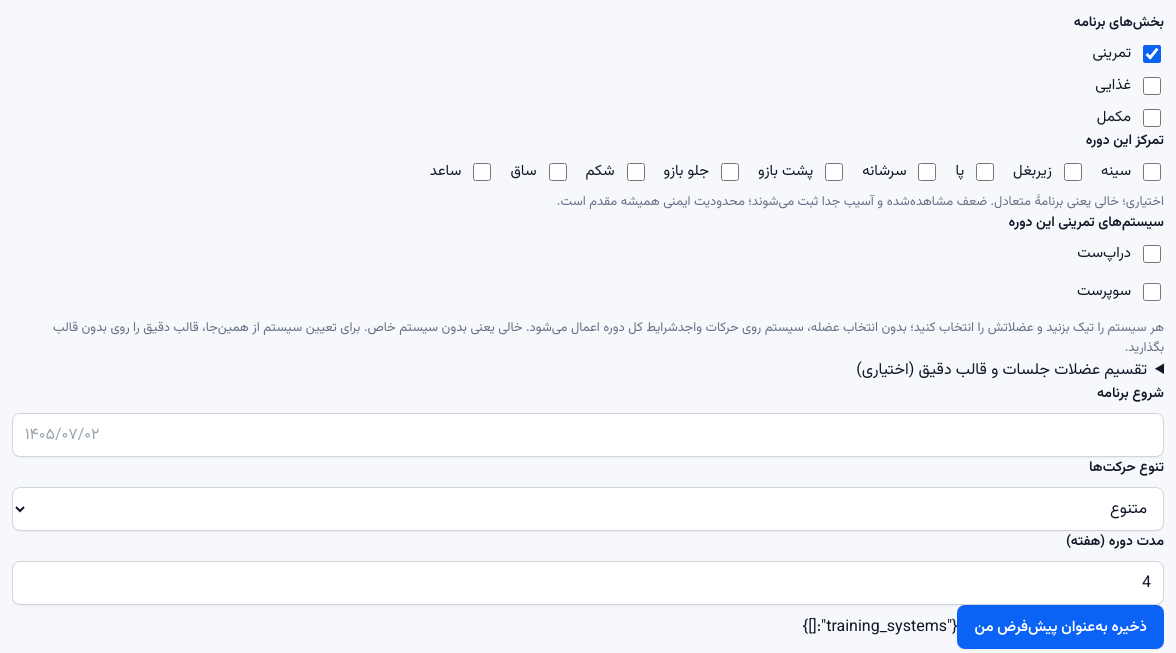
Test: keeps muscle selections independent per system and removes them with the system
Click the checkbox labelled "دراپ‌ست": {"x": 1152, "y": 254} [1143,245,1161,263]
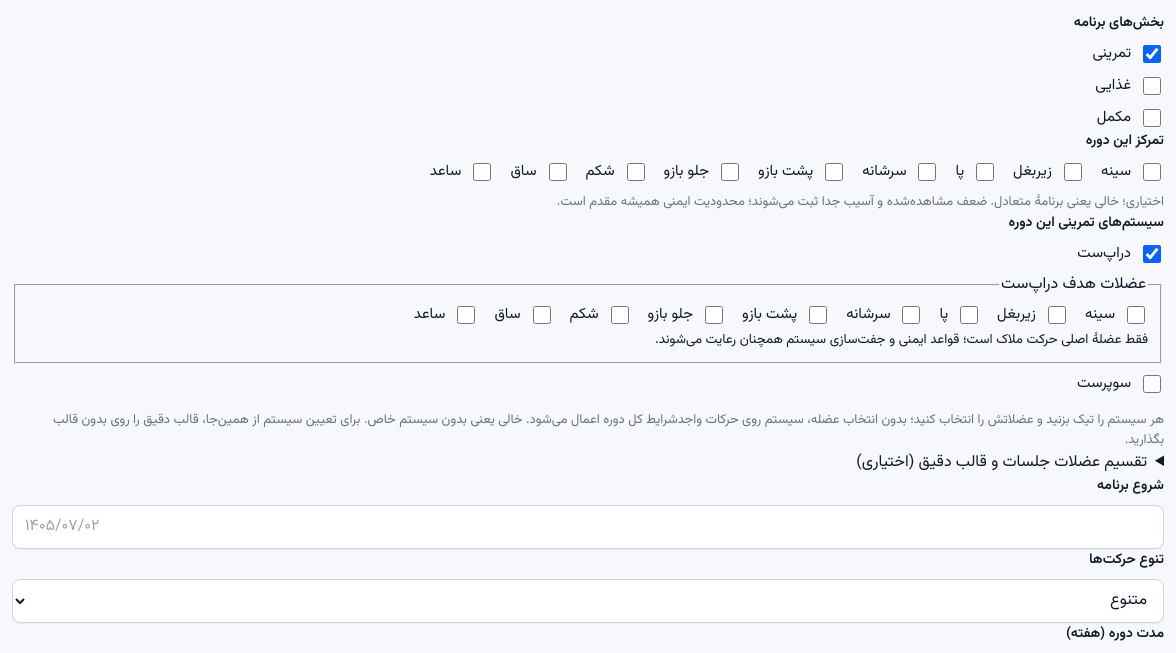
Click the checkbox labelled "سینه" below "عضلات هدف": {"x": 1136, "y": 315} [1127,306,1145,324]
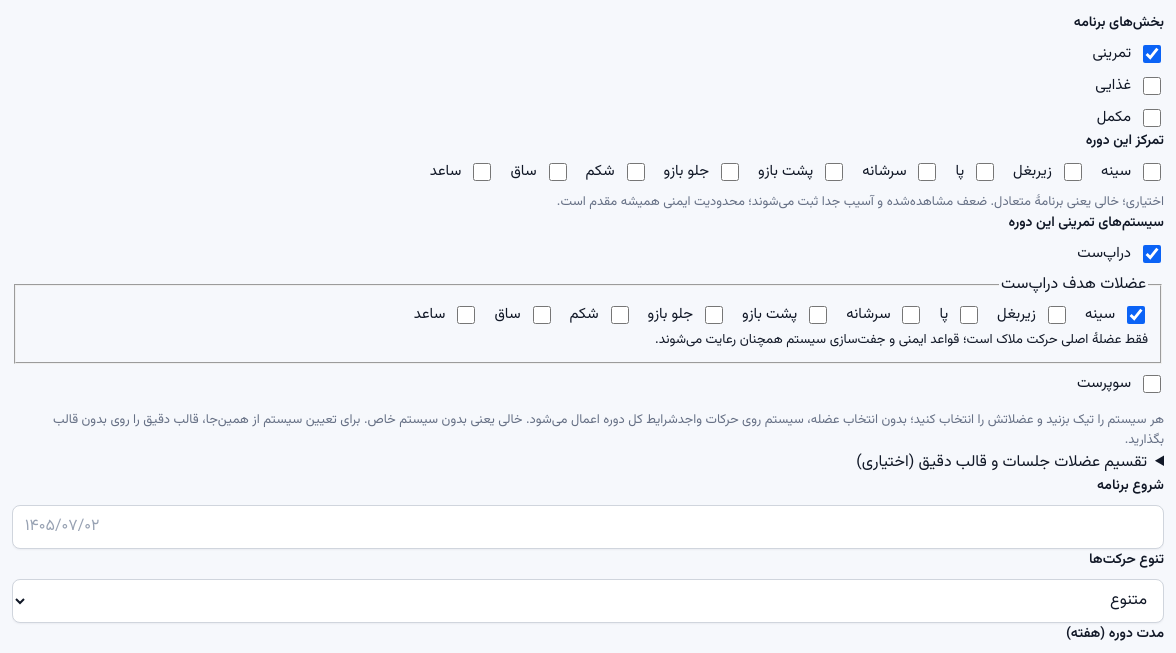
Click the checkbox labelled "سرشانه" below "عضلات هدف": {"x": 912, "y": 315} [902,306,920,324]
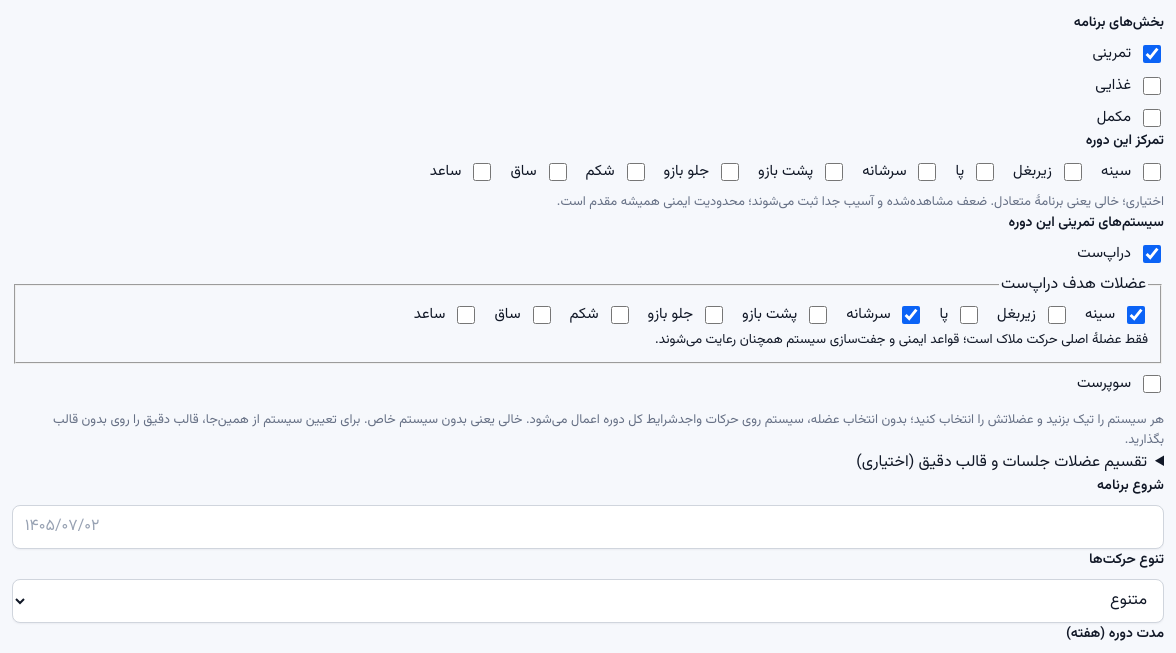
Click the checkbox labelled "سوپرست": {"x": 1152, "y": 384} [1143,375,1161,393]
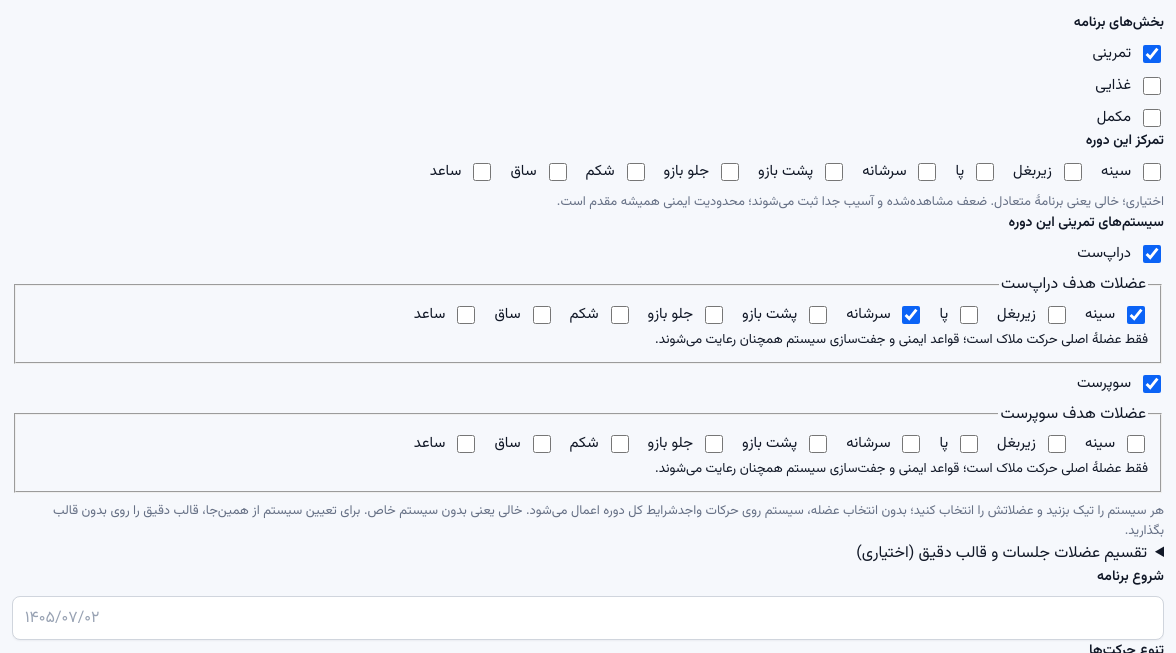
Click the 3rd checkbox labelled "پا": {"x": 969, "y": 444} [960,435,978,453]
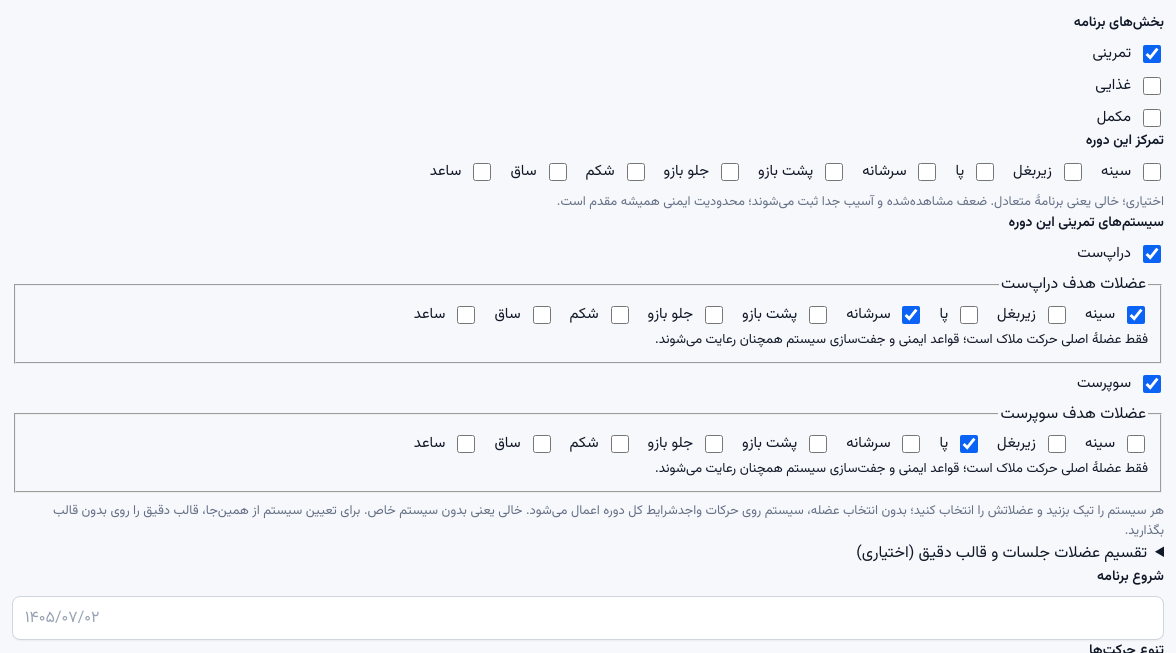
Click the checkbox labelled "دراپ‌ست": {"x": 1152, "y": 254} [1143,245,1161,263]
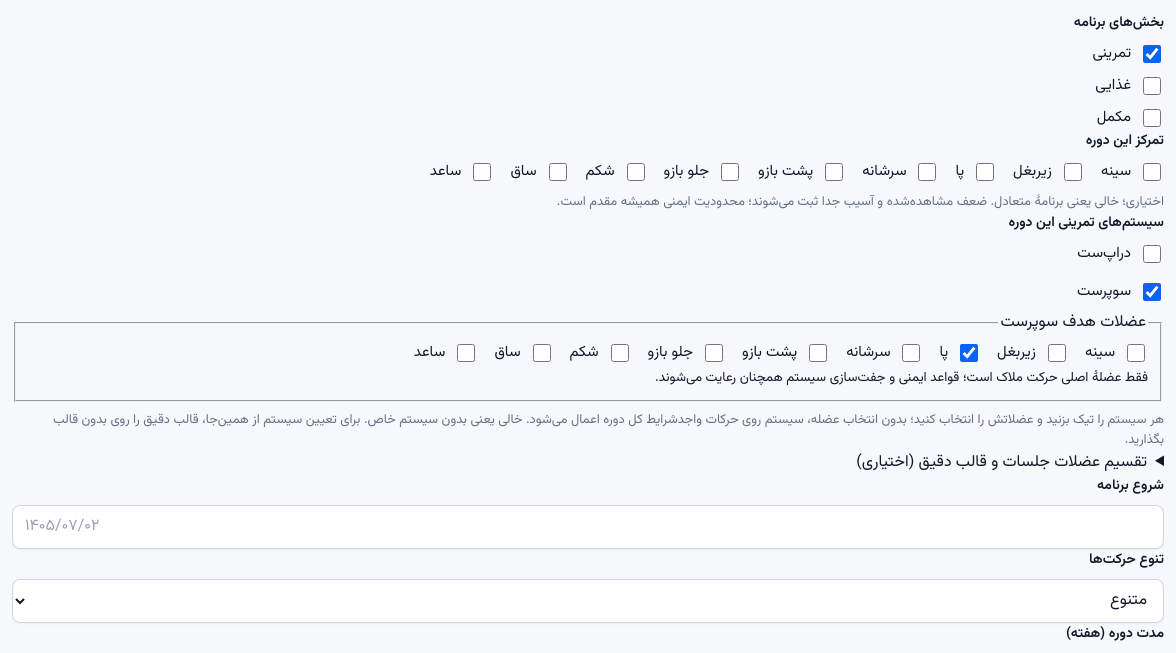
Check: the text "عضلات هدف دراپ‌ست" is gone
